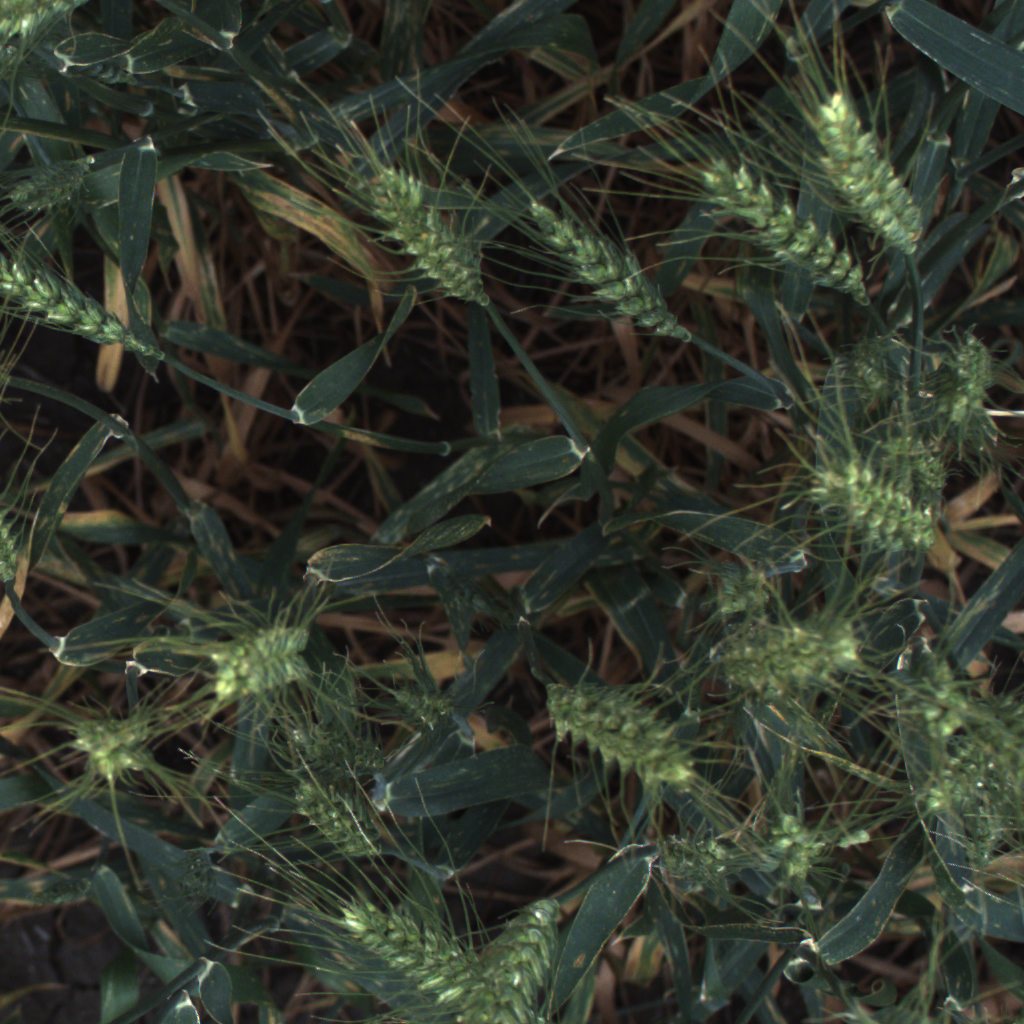wheat_head: (525, 185, 702, 359), (684, 161, 881, 313), (0, 240, 174, 369), (534, 664, 721, 784), (807, 87, 927, 261), (367, 154, 492, 302), (446, 886, 577, 1024), (329, 893, 488, 1005), (790, 457, 949, 564), (718, 619, 890, 705), (207, 606, 329, 705), (61, 691, 164, 797), (935, 313, 1006, 461), (285, 772, 393, 868), (919, 721, 1011, 819), (284, 721, 393, 801), (4, 154, 101, 230), (658, 819, 737, 887), (400, 671, 478, 736), (761, 799, 825, 875), (1, 491, 31, 601), (0, 0, 80, 41), (712, 566, 774, 618)
